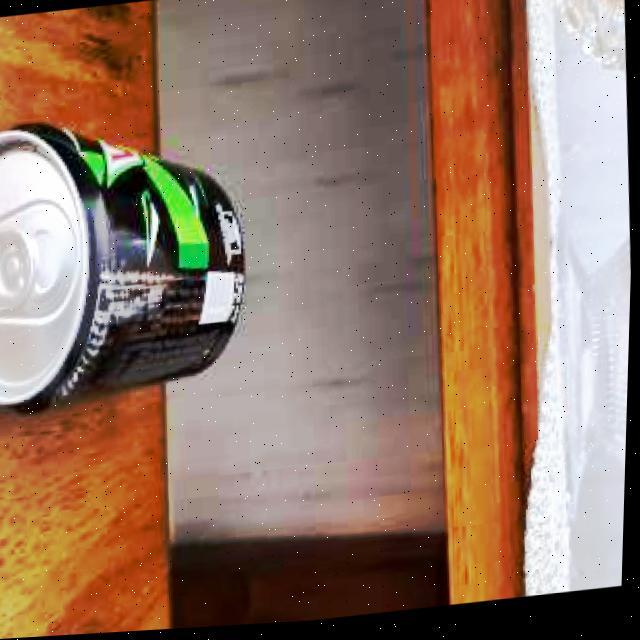Lata: (0, 125, 232, 410)
